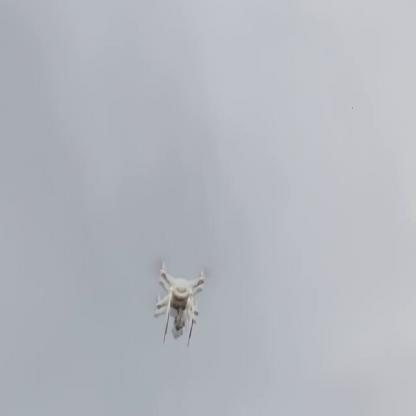drone: (148, 258, 211, 341)
